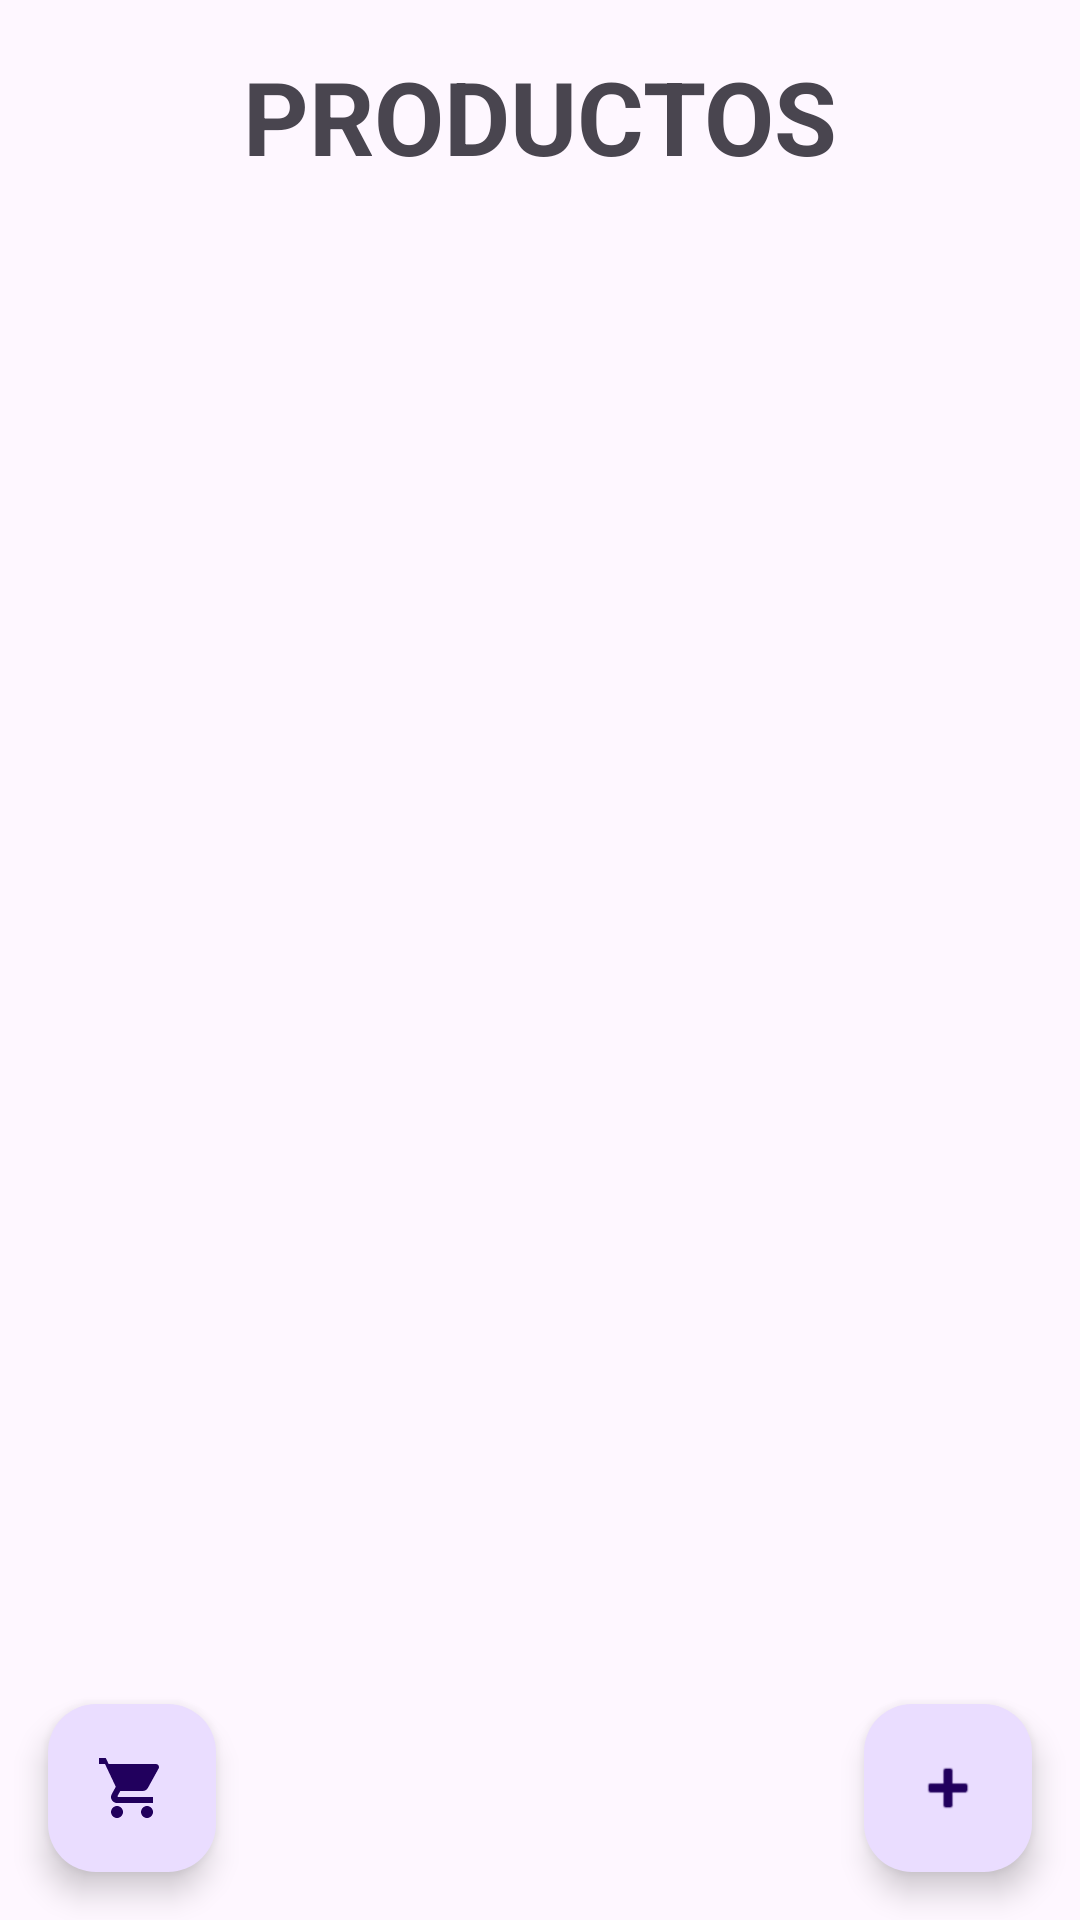

Icons on this 1080 × 1920 Android screen, each with its box as bbox(x1, y1, x2, y2):
add: bbox(864, 1704, 1032, 1872)
carrito: bbox(48, 1704, 216, 1872)
